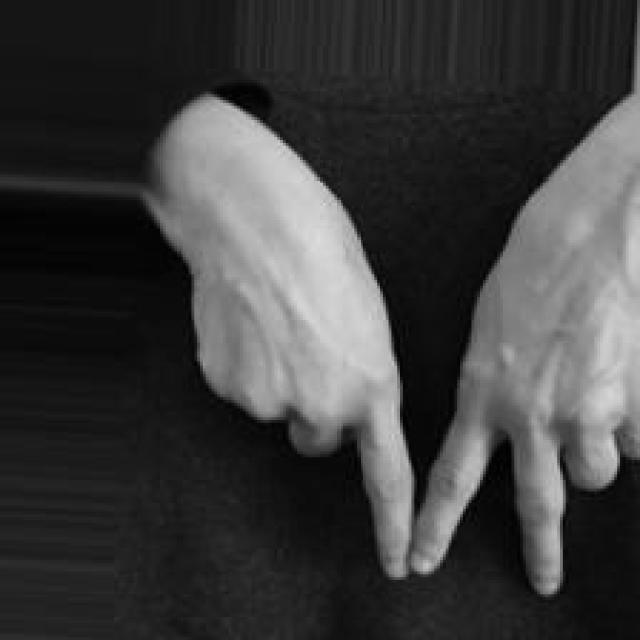N: (191, 180, 640, 605)
